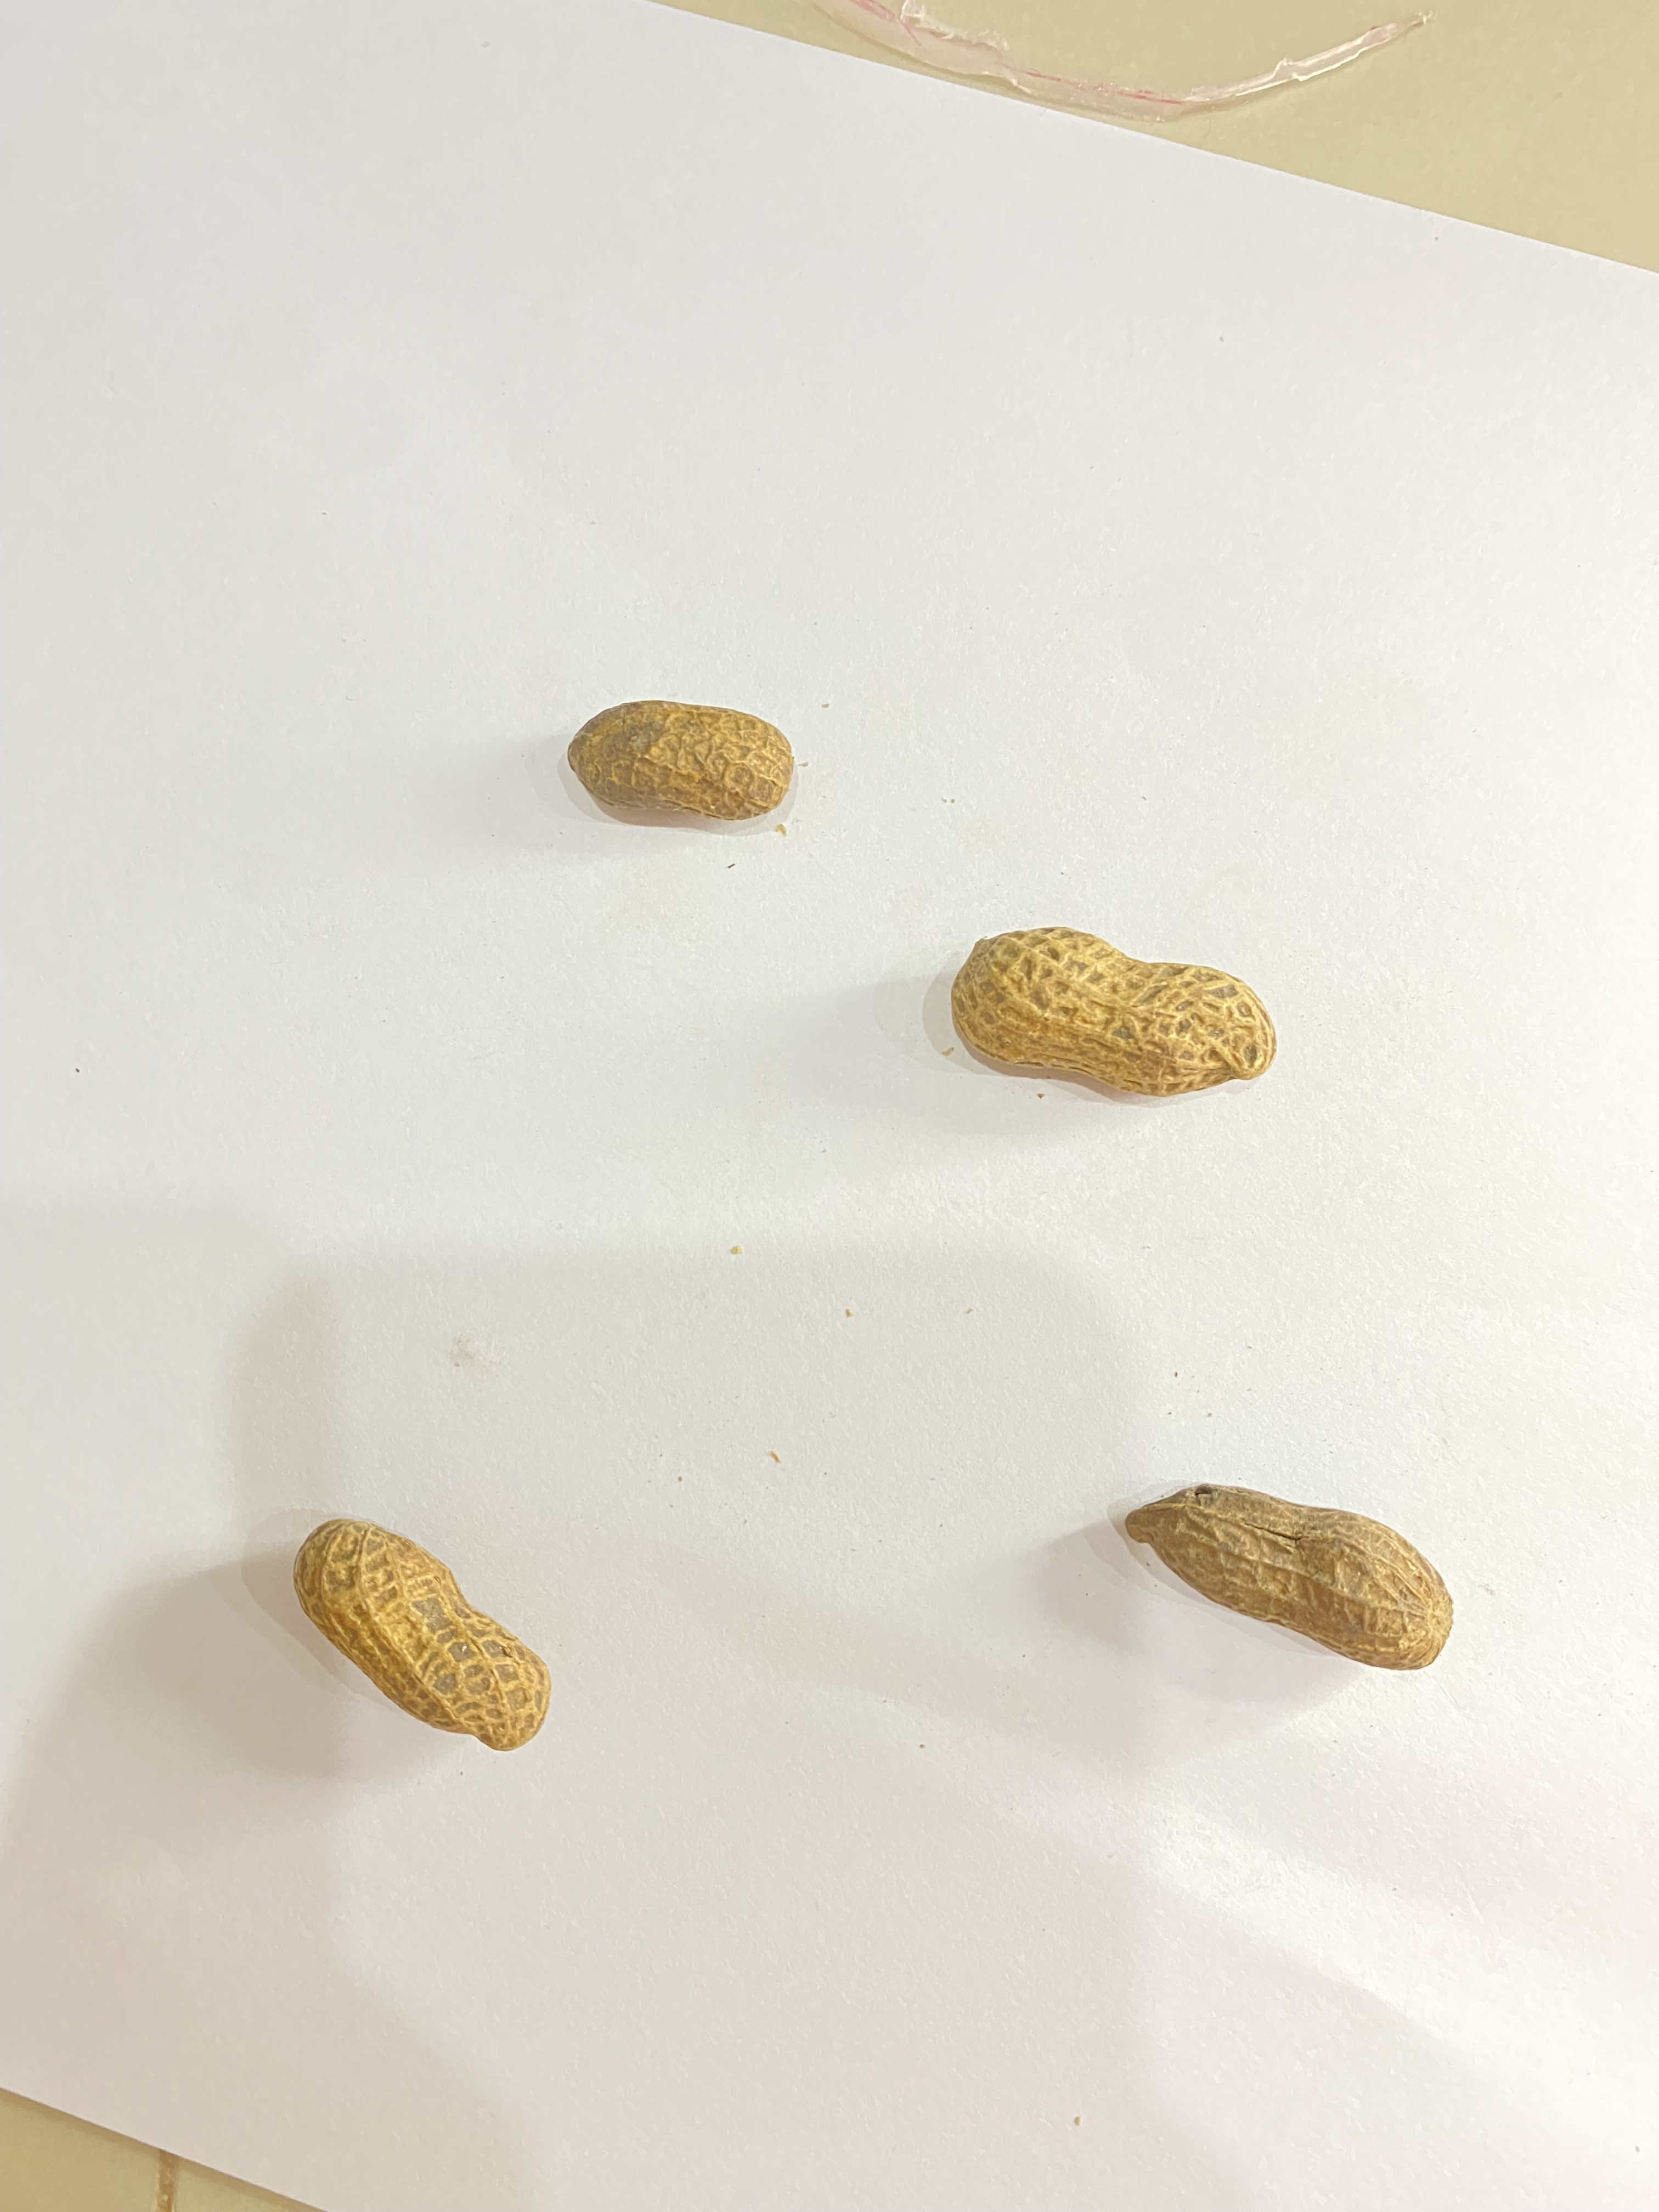kacang1: (549, 671, 843, 838)
kacang2: (903, 859, 1352, 1148), (239, 1508, 629, 1750), (1115, 1442, 1473, 1686)
